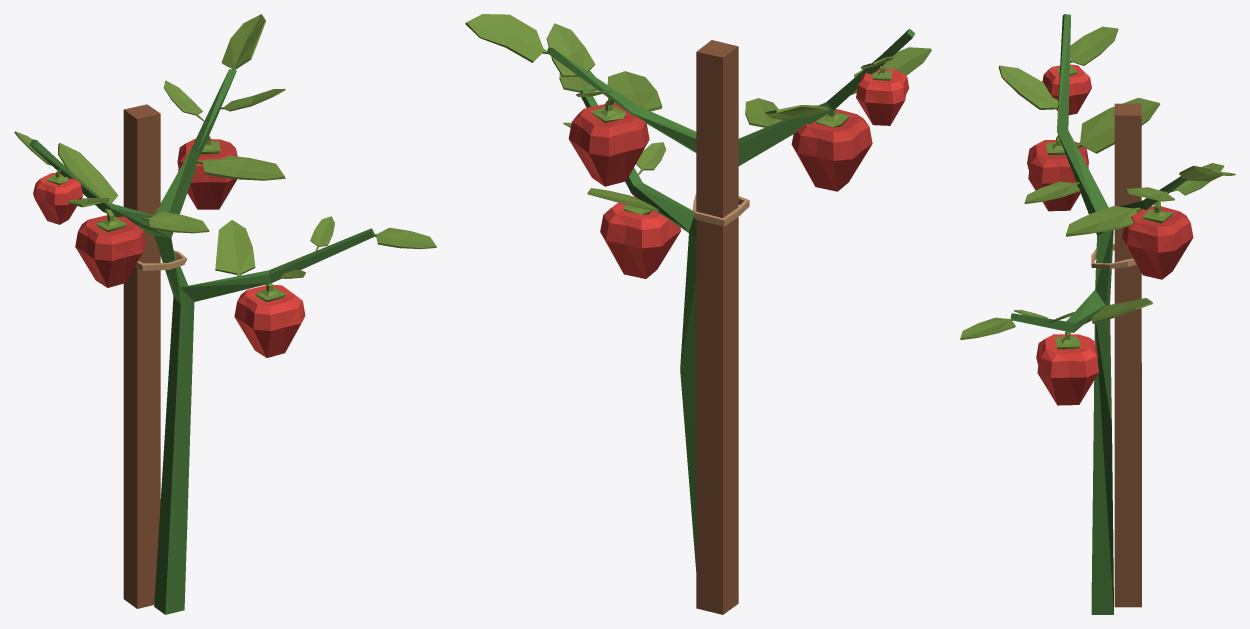
Rendered from PepperPlant_01.fbx.
The picture shows the model from 3 angles, left to right: view 1: azimuth 30°, elevation 25°; view 2: azimuth 150°, elevation 25°; view 3: azimuth 270°, elevation 25°; orthographic projection. The views are drawn at different scales.
Visible parts, largest first — view 1: PepperPlant_01_LOD0; view 2: PepperPlant_01_LOD0; view 3: PepperPlant_01_LOD0.
Boxes of the visible parts, box(x1,y1,x2,y2) form: PepperPlant_01_LOD0: box(14, 14, 436, 614); PepperPlant_01_LOD0: box(465, 14, 931, 614); PepperPlant_01_LOD0: box(960, 14, 1235, 614).
Size of what is drawn, in the model's own units: 59.12 by 82.56 by 39.48.
